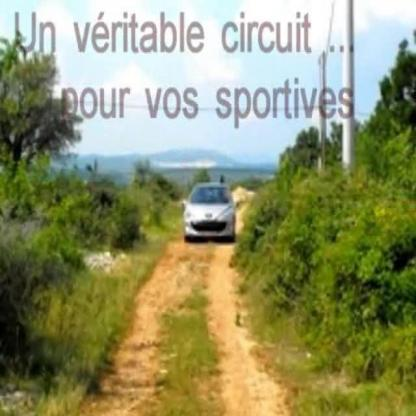other: (213, 153, 261, 277)
